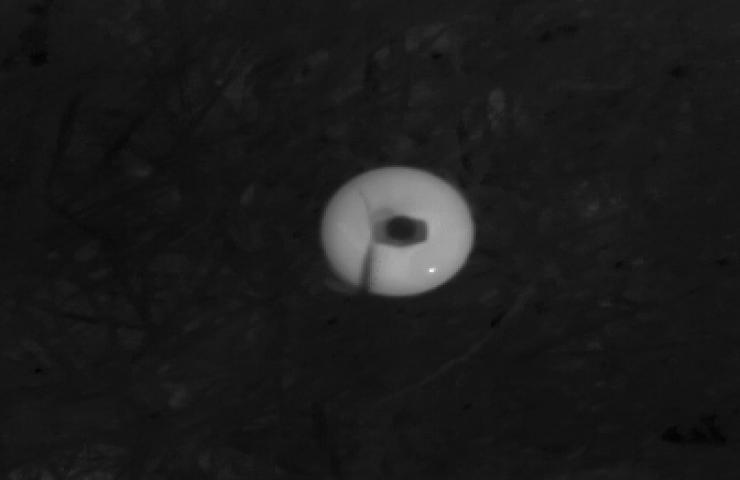landmines: (318, 162, 484, 303)
